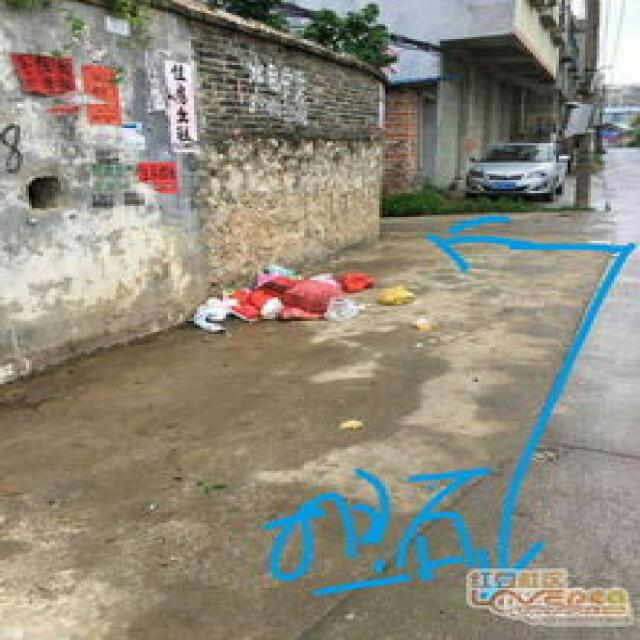garbage: (188, 260, 432, 334)
